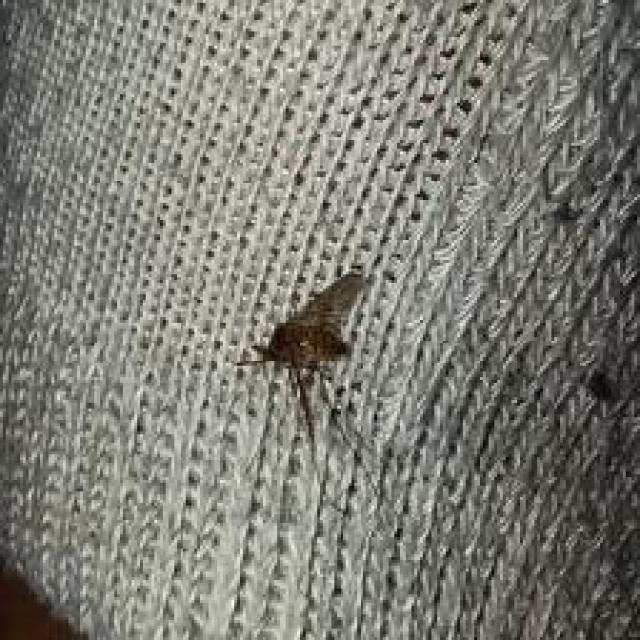Culex: (234, 264, 369, 439)
